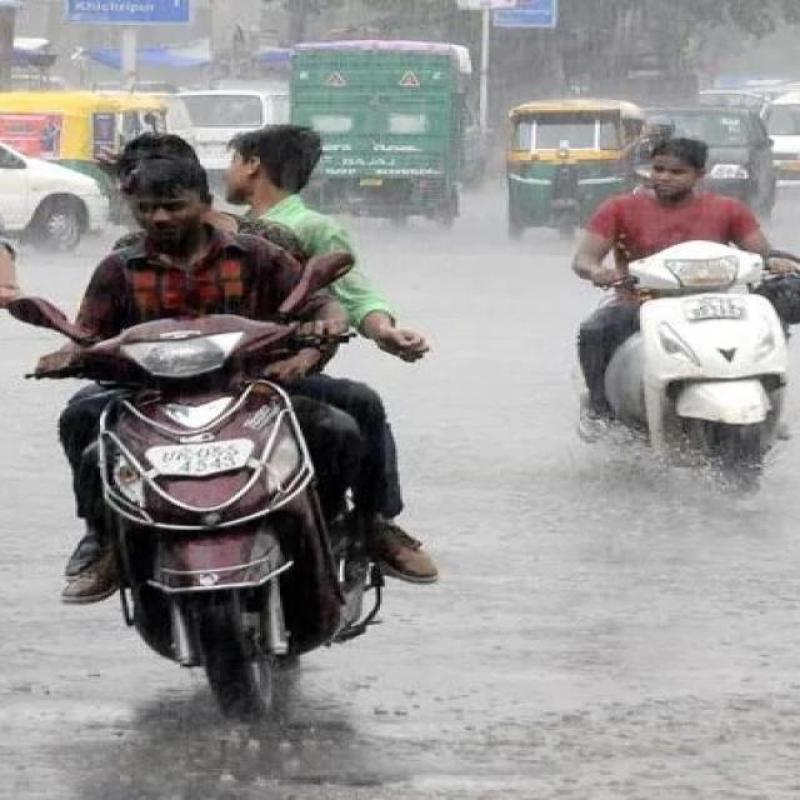nohelmet: (98, 155, 216, 243), (644, 136, 710, 198)
